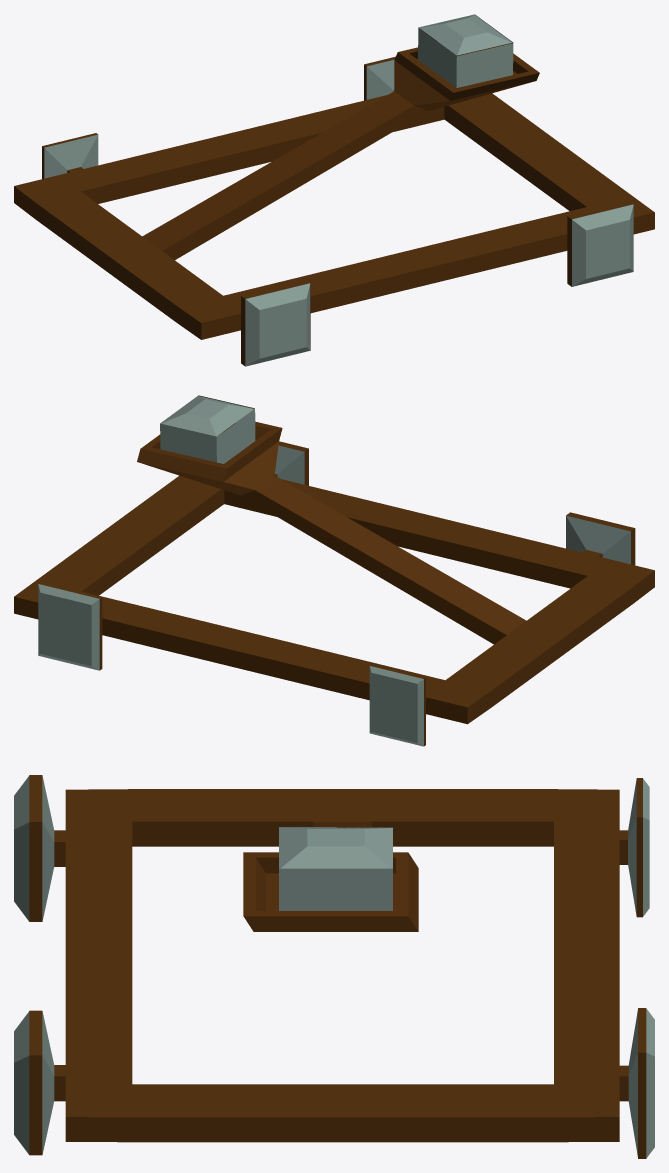
Rendered from Catapult.fbx.
The picture shows the model from 3 angles, top to bottom: view 1: azimuth 30°, elevation 25°; view 2: azimuth 150°, elevation 25°; view 3: azimuth 270°, elevation 25°; orthographic projection. The views are drawn at different scales.
Visible parts, largest first — view 1: Plane; view 2: Plane; view 3: Plane.
Boxes of the visible parts, x1,y1,x2,y2 form: Plane: (14,14,654,366); Plane: (14,395,654,746); Plane: (14,775,654,1158).
Size of the model in its own units: 444 by 174 by 367.
